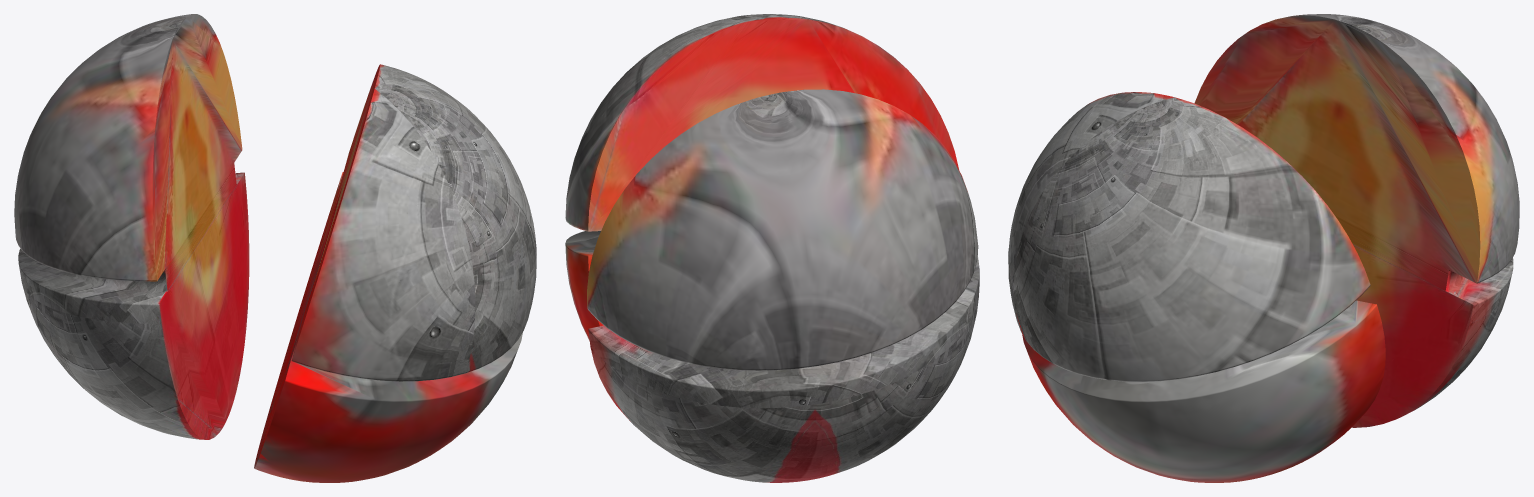
File: Drone166_000005.obj
The picture shows the model from 3 angles, left to right: view 1: azimuth 30°, elevation 25°; view 2: azimuth 150°, elevation 25°; view 3: azimuth 270°, elevation 25°; orthographic projection. The views are drawn at different scales.
Visible parts, largest first — view 1: Sphere.000_Sphere.004, Sphere.001_Sphere.005; view 2: Sphere.000_Sphere.004, Sphere.001_Sphere.005; view 3: Sphere.001_Sphere.005, Sphere.000_Sphere.004.
Part boxes in pixels (x1,y1,x2,y2): Sphere.000_Sphere.004: (14, 14, 249, 439); Sphere.001_Sphere.005: (254, 64, 536, 482); Sphere.000_Sphere.004: (587, 89, 979, 482); Sphere.001_Sphere.005: (565, 14, 958, 340); Sphere.001_Sphere.005: (1008, 92, 1385, 482); Sphere.000_Sphere.004: (1194, 14, 1519, 427).
Bounding box in the file's own units: 2.36 × 2.22 × 2.57.
Materials: 4 (4 with a texture image).
